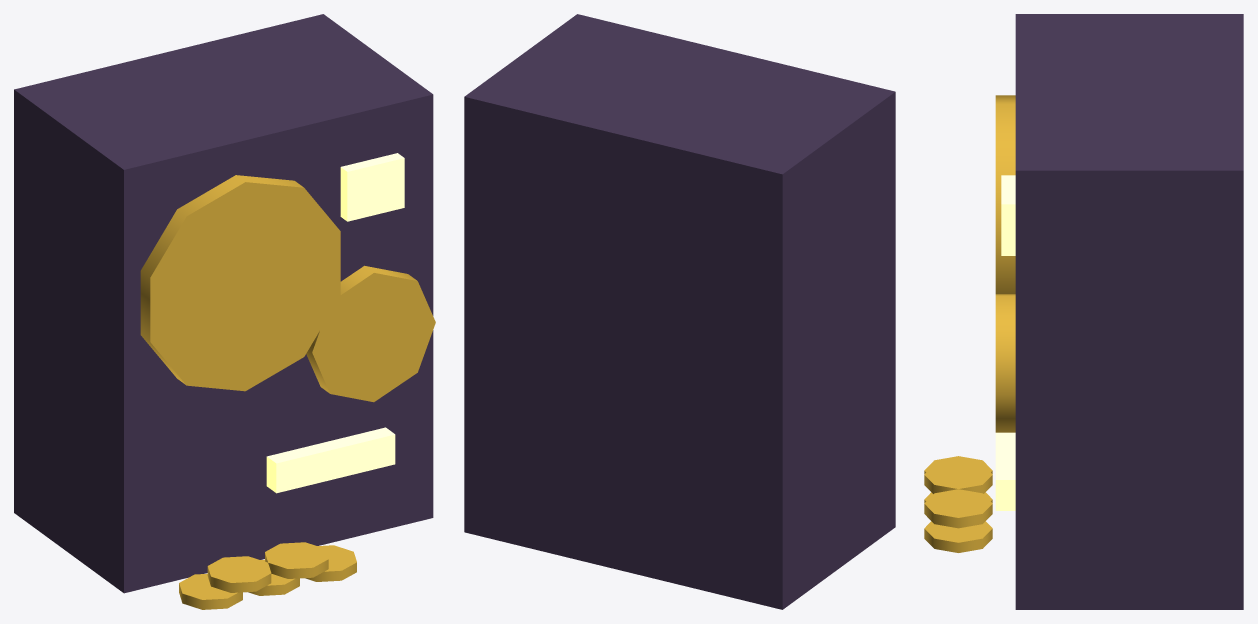
The model's file is f_gearmachine.glb.
3 views of the same model, side by side, from view 1: azimuth 30°, elevation 25°; view 2: azimuth 150°, elevation 25°; view 3: azimuth 270°, elevation 25° (orthographic). The views are drawn at different scales.
Visible parts, largest first — view 1: gearmachine; view 2: gearmachine; view 3: gearmachine.
Part boxes in pixels (<box>): gearmachine: <box>14,14,435,609</box>; gearmachine: <box>464,14,895,609</box>; gearmachine: <box>924,14,1243,609</box>.
Bounding box in the file's own units: 1.3 × 1.7 × 1.12.
